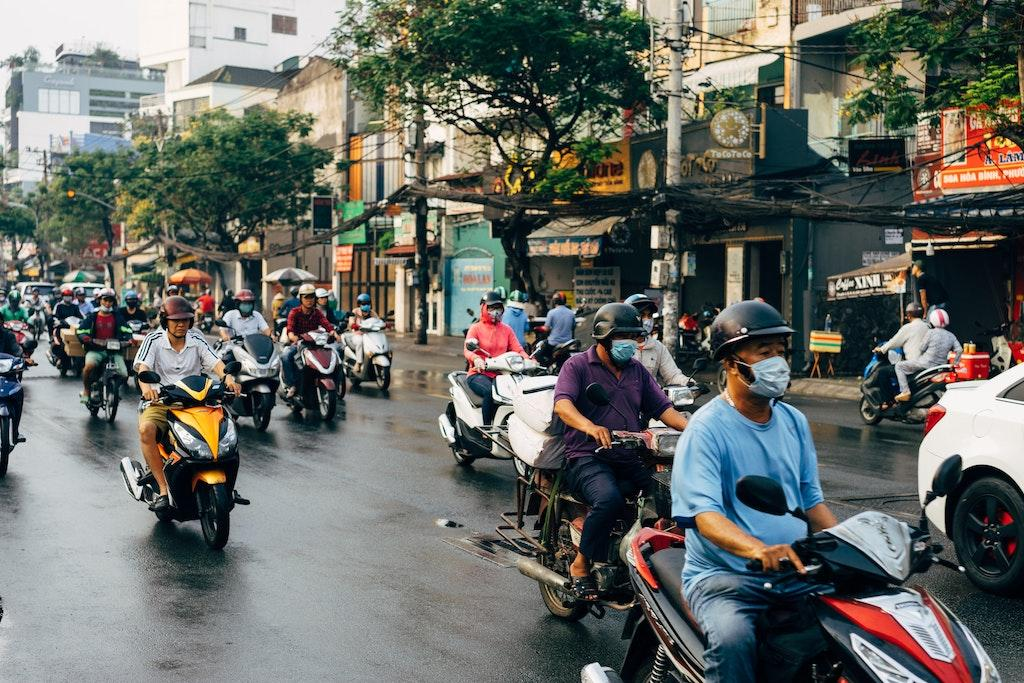helmet: (708, 298, 802, 408), (591, 300, 647, 371), (158, 294, 197, 344), (480, 290, 505, 326)
